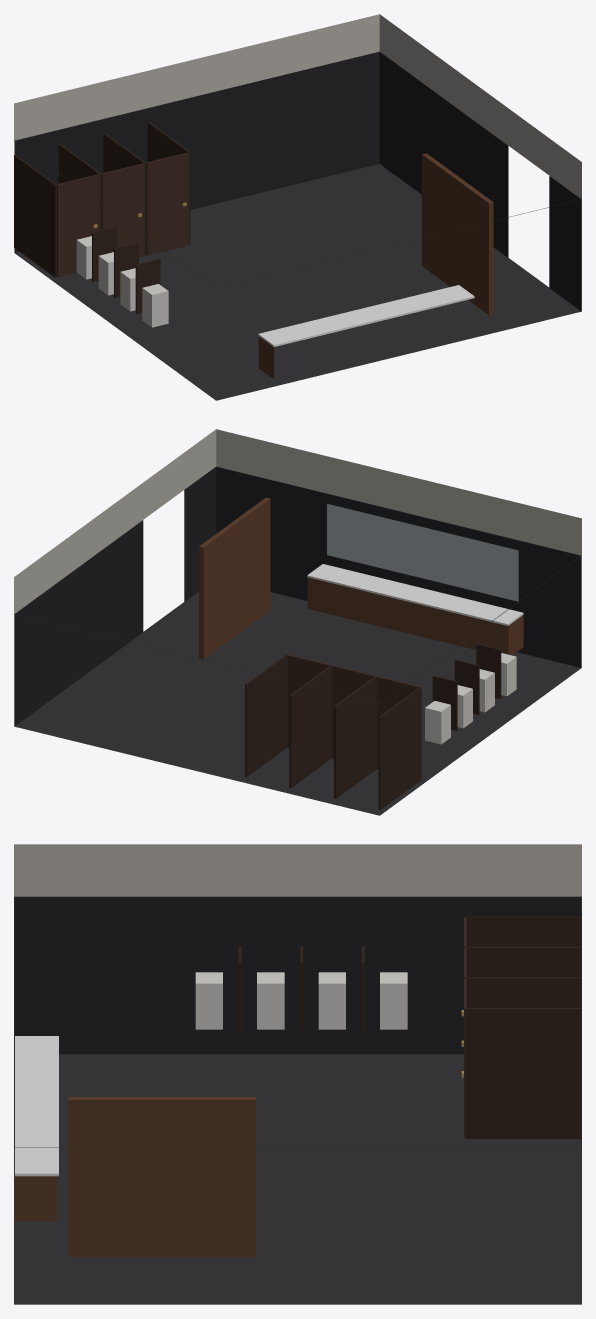
Rendered from wcM.glb.
The picture shows the model from 3 angles, top to bottom: view 1: azimuth 30°, elevation 25°; view 2: azimuth 150°, elevation 25°; view 3: azimuth 270°, elevation 25°; orthographic projection. The views are drawn at different scales.
Visible parts, largest first — view 1: wcM; view 2: wcM; view 3: wcM.
Part boxes in pixels (left/top/right/bottom): wcM: left=14, top=14, right=581, bottom=400; wcM: left=14, top=429, right=581, bottom=815; wcM: left=14, top=844, right=581, bottom=1304.
Size of the model in its own units: 8.21 by 3.2 by 7.85.
